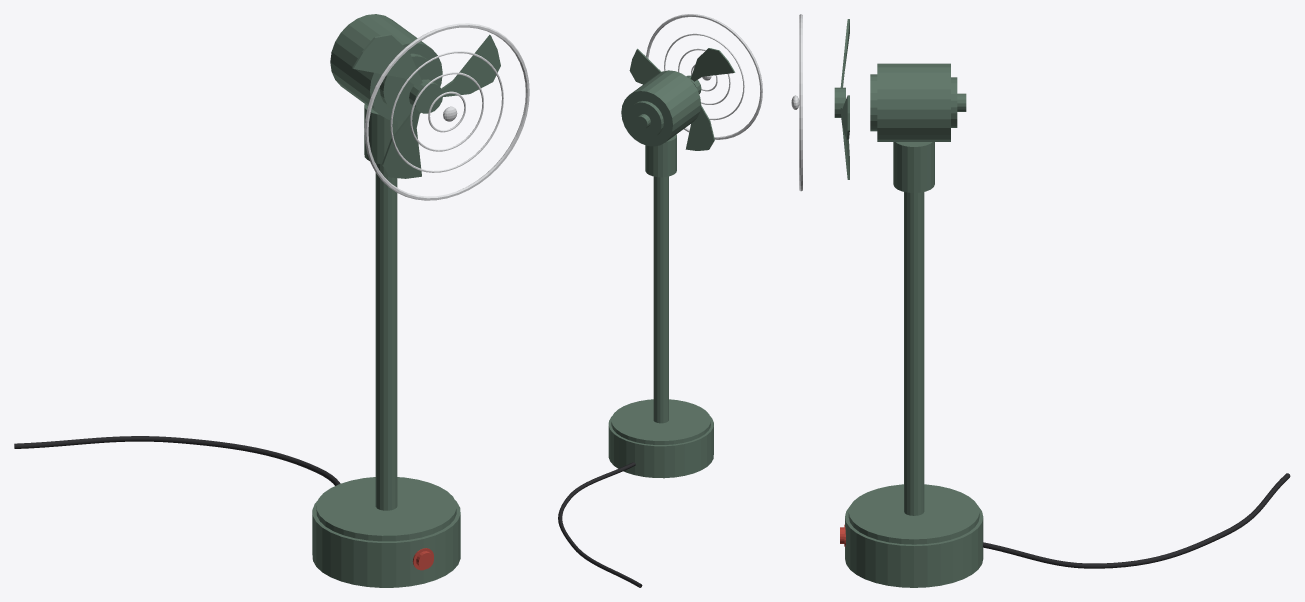
Rendered from fan.glb.
3 views of the same model, side by side, from view 1: azimuth 30°, elevation 25°; view 2: azimuth 150°, elevation 25°; view 3: azimuth 270°, elevation 25° (orthographic). The views are drawn at different scales.
Parts seen in each view (by area): view 1: prop_fan_base, prop_fan_column, prop_fan_blades, prop_fan_motor, prop_fan_grill, prop_fan_cord; view 2: prop_fan_base, prop_fan_column, prop_fan_motor, prop_fan_blades, prop_fan_grill, prop_fan_cord; view 3: prop_fan_base, prop_fan_column, prop_fan_motor, prop_fan_cord, prop_fan_blades, prop_fan_grill.
Boxes of the visible parts, bbox=[...] form: prop_fan_base: bbox=[312, 477, 460, 587]; prop_fan_column: bbox=[364, 104, 404, 510]; prop_fan_blades: bbox=[352, 34, 500, 178]; prop_fan_motor: bbox=[330, 14, 442, 121]; prop_fan_grill: bbox=[364, 23, 529, 200]; prop_fan_cord: bbox=[14, 436, 340, 485]; prop_fan_base: bbox=[608, 399, 713, 478]; prop_fan_column: bbox=[645, 134, 676, 423]; prop_fan_motor: bbox=[621, 70, 700, 146]; prop_fan_blades: bbox=[629, 48, 735, 150]; prop_fan_grill: bbox=[646, 14, 762, 139]; prop_fan_cord: bbox=[558, 462, 642, 587]; prop_fan_base: bbox=[845, 484, 983, 587]; prop_fan_column: bbox=[893, 142, 934, 515]; prop_fan_motor: bbox=[870, 63, 966, 141]; prop_fan_cord: bbox=[983, 473, 1290, 568]; prop_fan_blades: bbox=[834, 19, 849, 179]; prop_fan_grill: bbox=[791, 14, 802, 191].
Bounding box in the file's own units: 0.595 × 1.28 × 1.08.
